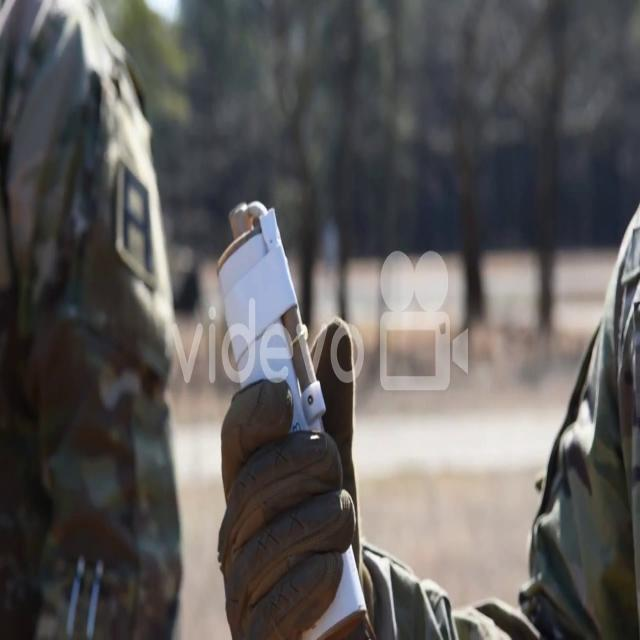grenade: (220, 205, 368, 640)
